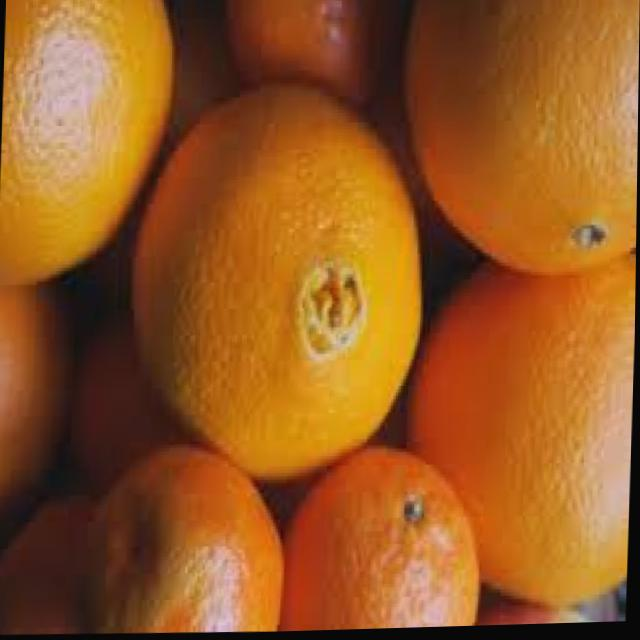orange: (120, 78, 428, 483), (409, 253, 636, 611), (416, 0, 639, 274), (1, 0, 173, 283), (84, 443, 288, 635), (281, 440, 484, 630)
